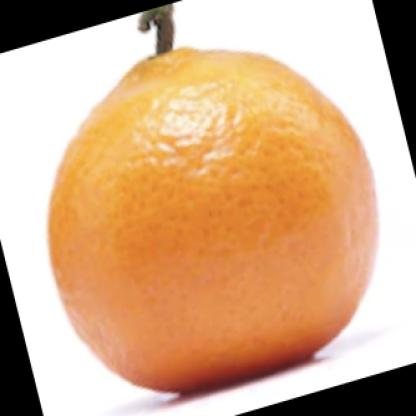fresh: (50, 52, 380, 392)
